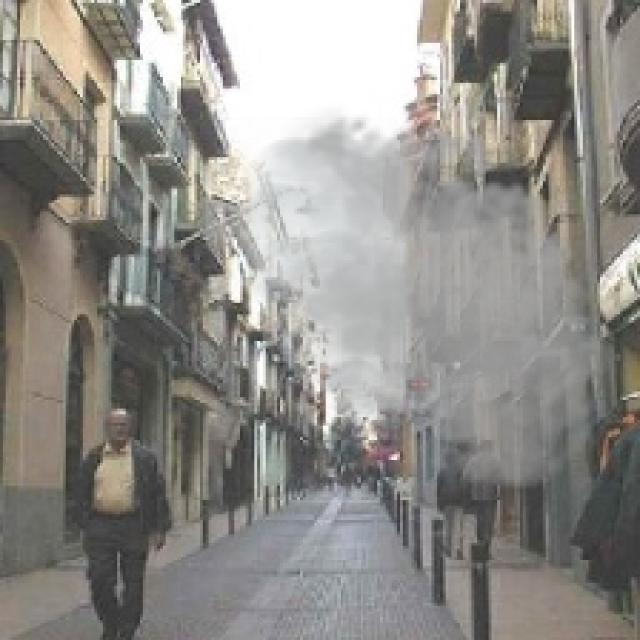smoke: (206, 103, 628, 497)
